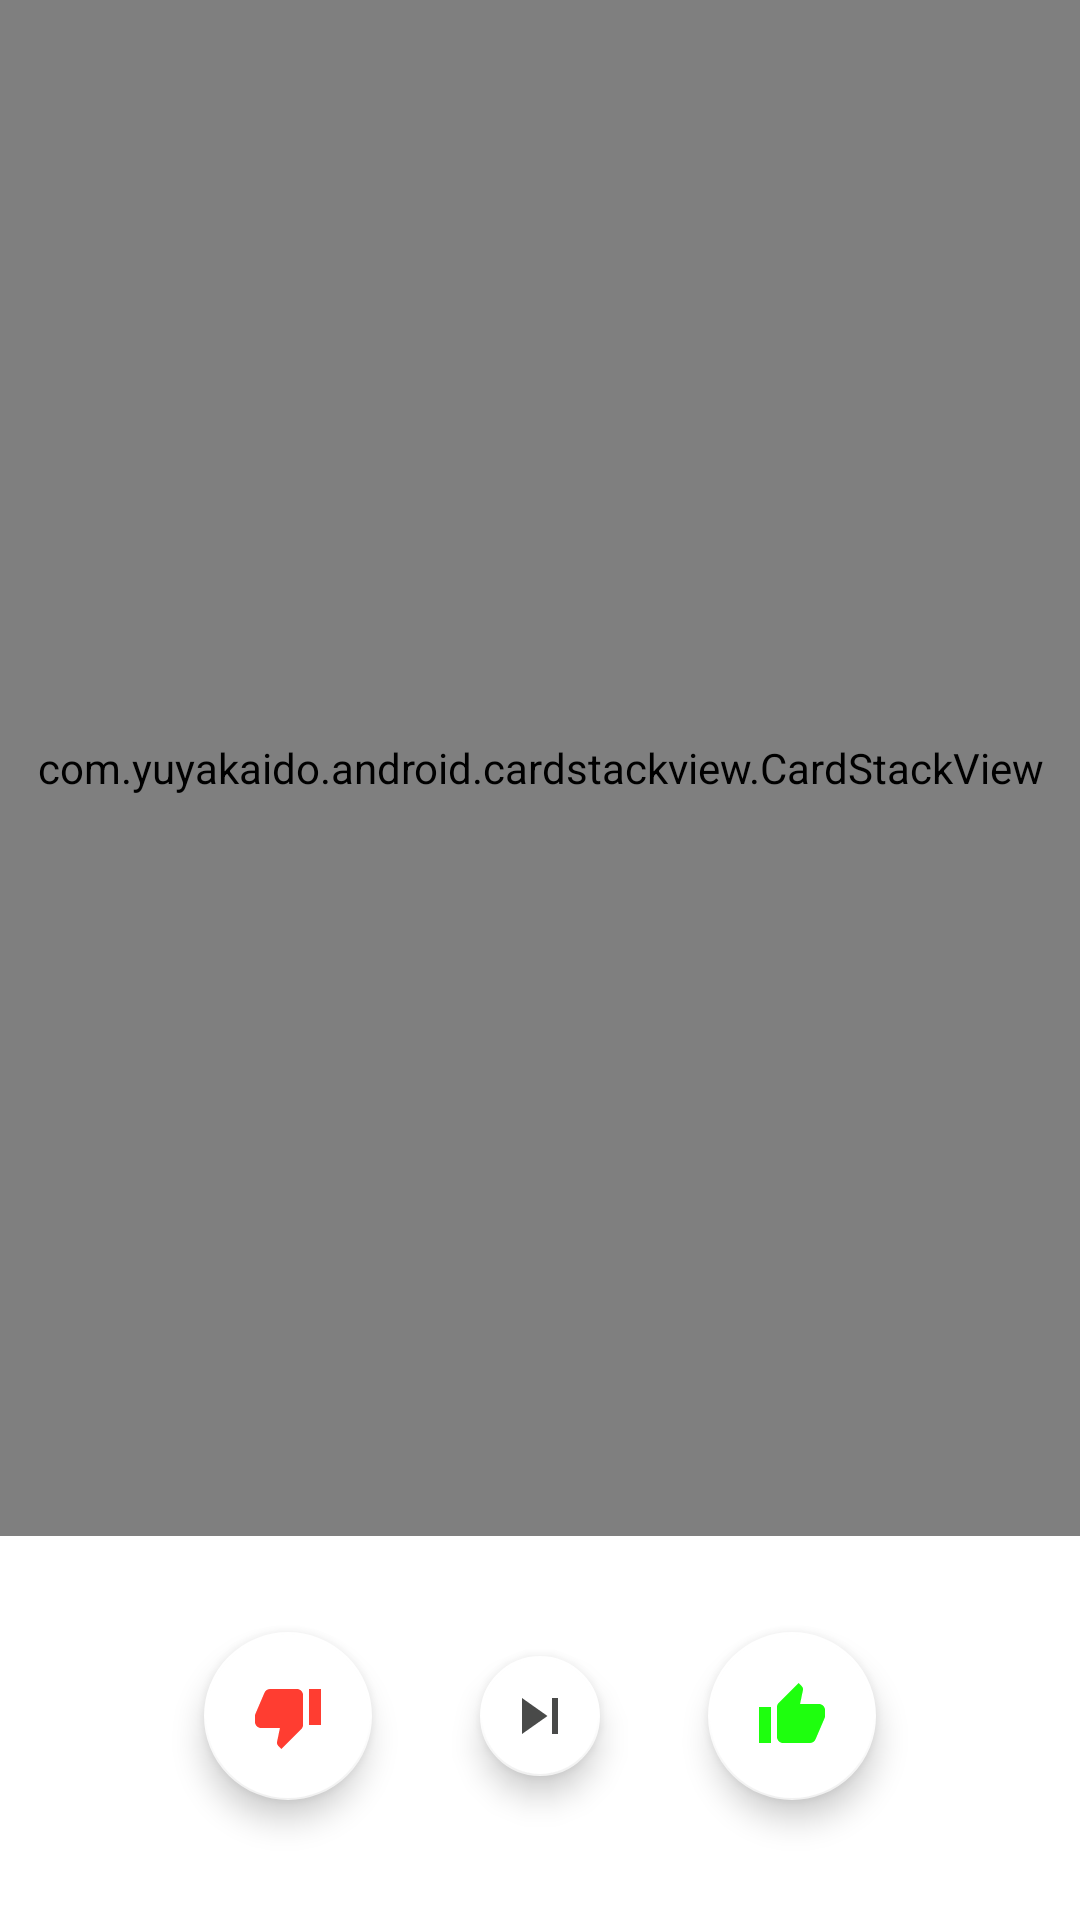

Icons on this 1080 × 1920 Android screen, each with the point to tap as (x=x, y=y):
skip next: (x=541, y=1743)
thumb down: (x=312, y=1719)
thumb up: (x=768, y=1713)
